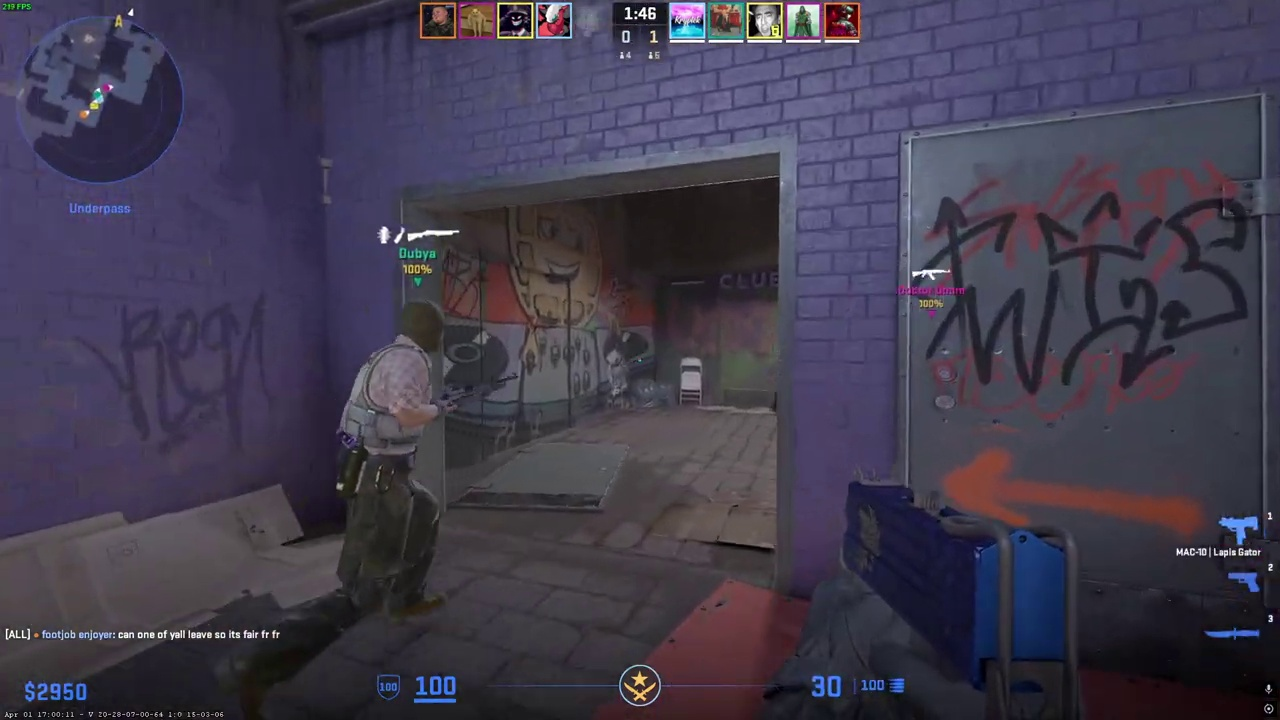Terrorist: (329, 299, 454, 627)
